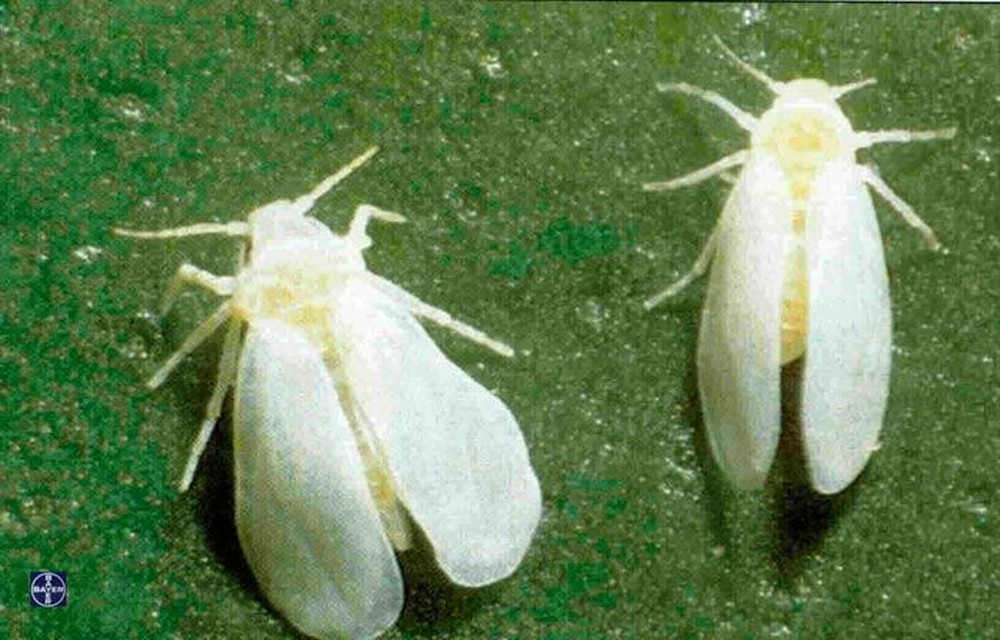Mosca Blanca: (100, 143, 572, 638), (634, 46, 966, 545)
